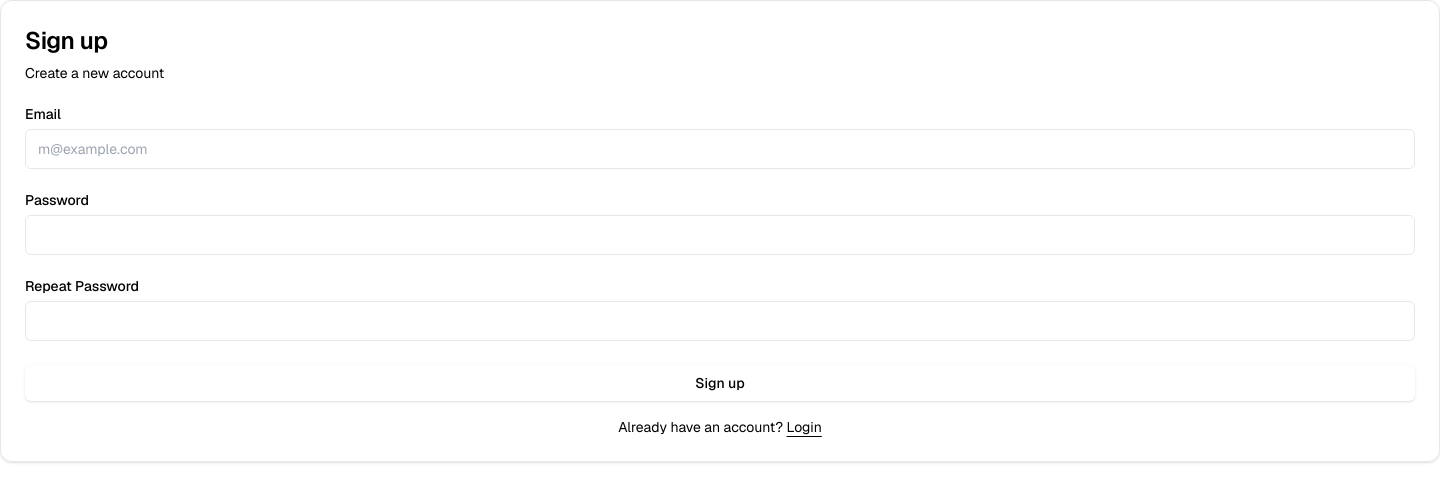
SignUpForm › блокирует кнопку при isLoading
Type "a@a.com" into the field labelled "Email" at point(720, 149), box [25,129,1415,169]
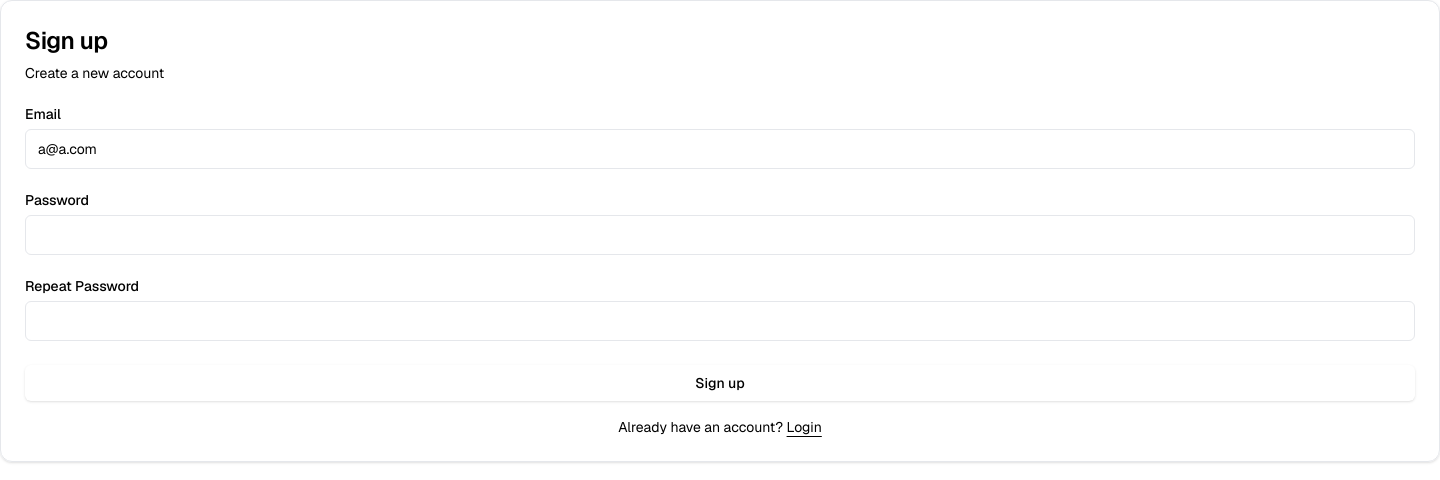
Type "123" into the password field labelled "Password" at point(720, 235), box [25,215,1415,255]
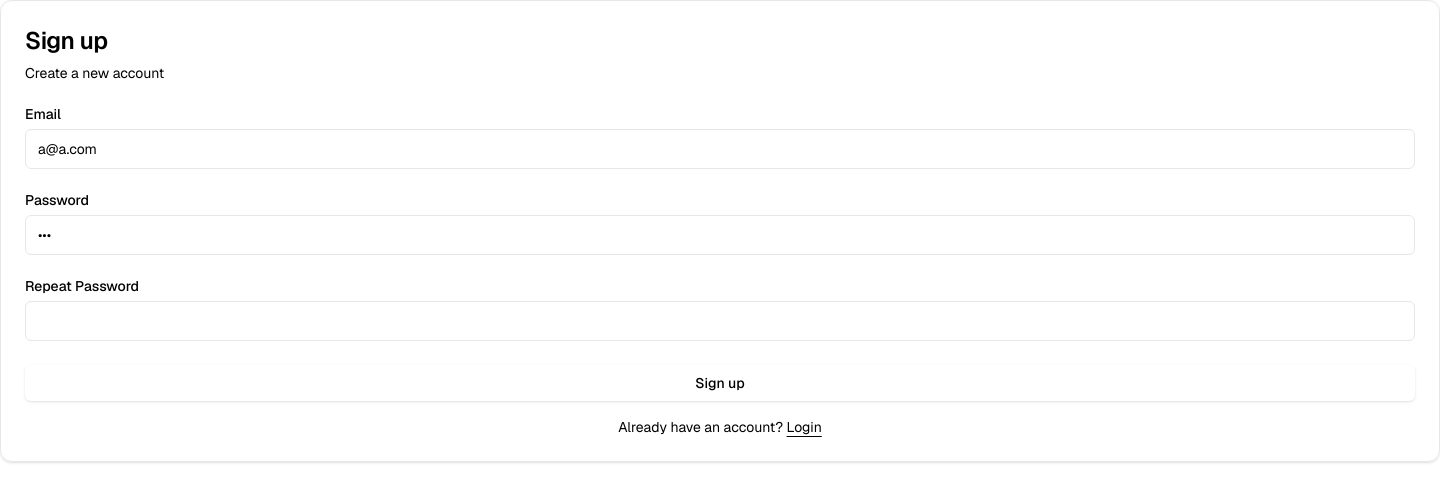
Type "123" into the password field labelled "Repeat Password" at point(720, 321), box [25,301,1415,341]
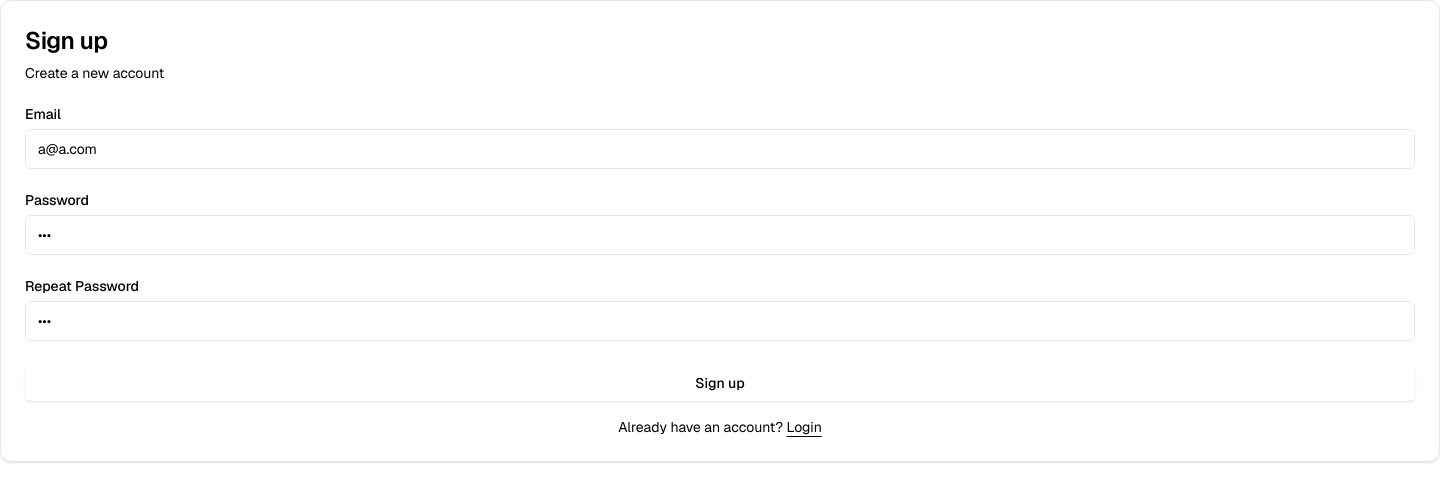
Submit the form with test id "sign-up-form"
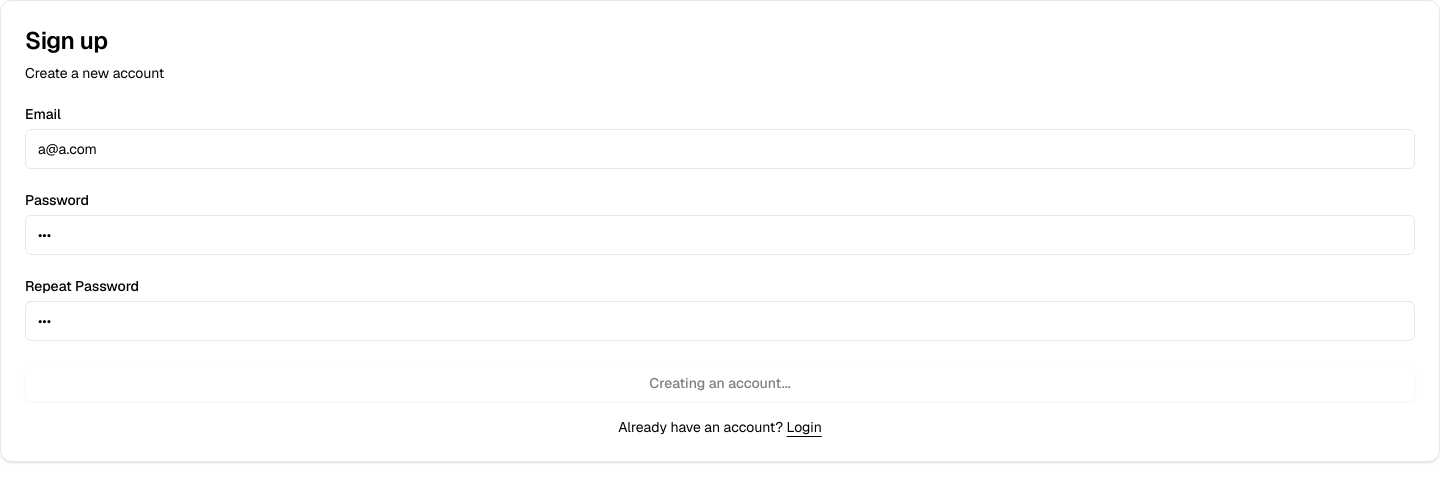
Now the button "Creating an account..." is disabled, box [25,365,1415,401]
